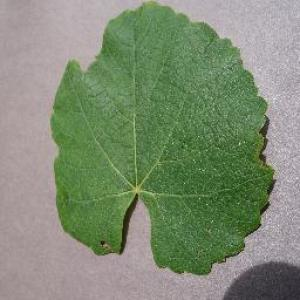Folha: (49, 0, 275, 275)
